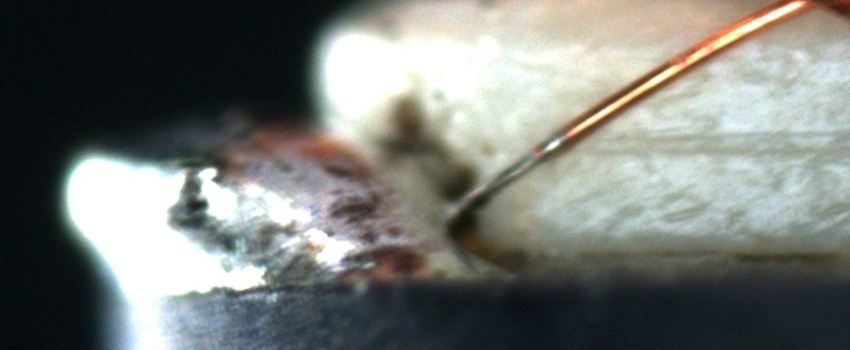CL: (771, 1, 844, 19)
DL: (576, 107, 849, 171)
TS: (448, 128, 569, 222)
TTCW: (437, 94, 621, 221)
